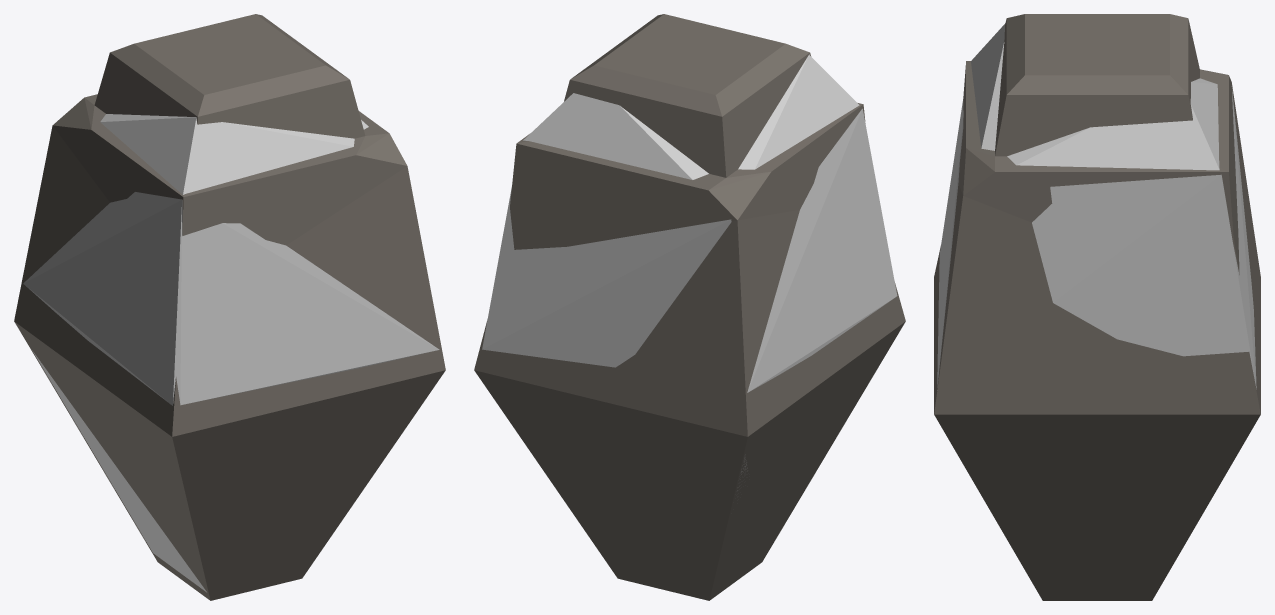
File: SM_Env_Rock_Bridge_Pillar_01.fbx
The picture shows the model from 3 angles, left to right: view 1: azimuth 30°, elevation 25°; view 2: azimuth 150°, elevation 25°; view 3: azimuth 270°, elevation 25°; orthographic projection. The views are drawn at different scales.
Visible parts, largest first — view 1: SM_Env_Rock_Bridge_Pillar_01, SM_Env_Rock_Bridge_Pillar_01_ConvexHulls; view 2: SM_Env_Rock_Bridge_Pillar_01, SM_Env_Rock_Bridge_Pillar_01_ConvexHulls; view 3: SM_Env_Rock_Bridge_Pillar_01, SM_Env_Rock_Bridge_Pillar_01_ConvexHulls.
Part boxes in pixels (x1,y1,x2,y2): SM_Env_Rock_Bridge_Pillar_01: (14, 14, 445, 600); SM_Env_Rock_Bridge_Pillar_01_ConvexHulls: (23, 114, 439, 592); SM_Env_Rock_Bridge_Pillar_01: (474, 14, 905, 600); SM_Env_Rock_Bridge_Pillar_01_ConvexHulls: (482, 54, 897, 490); SM_Env_Rock_Bridge_Pillar_01: (934, 14, 1260, 600); SM_Env_Rock_Bridge_Pillar_01_ConvexHulls: (937, 23, 1256, 390).
Bounding box in the file's own units: 85.73 × 85.73 × 154.
Materials: 2 (1 with a texture image).
